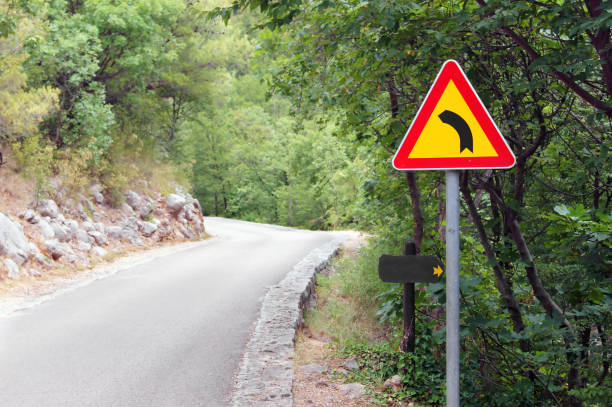left turn: (391, 59, 514, 169)
